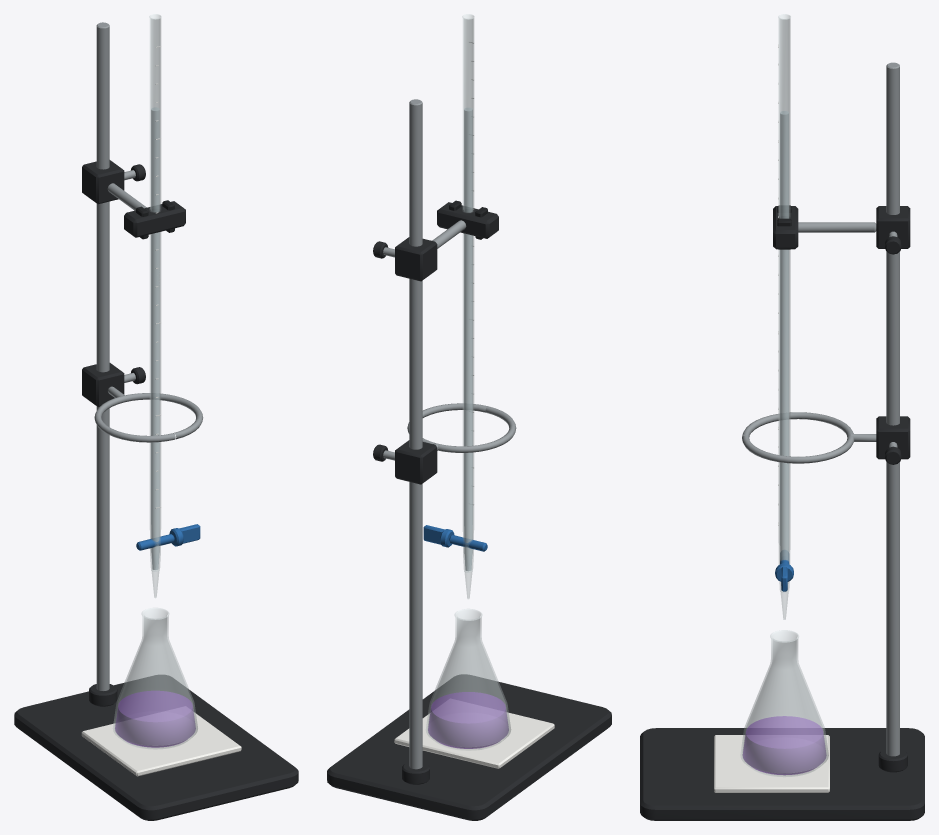
File: retort-stand.glb
The picture shows the model from 3 angles, left to right: view 1: azimuth 30°, elevation 25°; view 2: azimuth 150°, elevation 25°; view 3: azimuth 270°, elevation 25°; orthographic projection. The views are drawn at different scales.
Parts seen in each view (by area): view 1: Retort_Stand_With_Burette; view 2: Retort_Stand_With_Burette; view 3: Retort_Stand_With_Burette.
Boxes of the visible parts, left/top/right/bottom form: Retort_Stand_With_Burette: left=14, top=14, right=298, bottom=820; Retort_Stand_With_Burette: left=327, top=14, right=611, bottom=820; Retort_Stand_With_Burette: left=640, top=14, right=924, bottom=820.
Bounding box in the file's own units: 0.18 × 0.8007 × 0.27.
